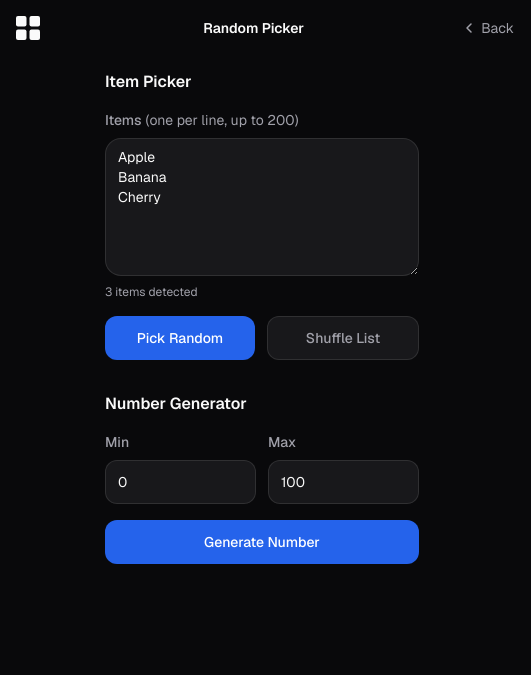
it: RandomPickerTool › result card shows picked item › displays the picked item in a result card after clicking "Pick Random"
The width and height of the screenshot is (531, 675).
Click the button with aria-label "pick a random item": (180, 338) [105,316,255,360]
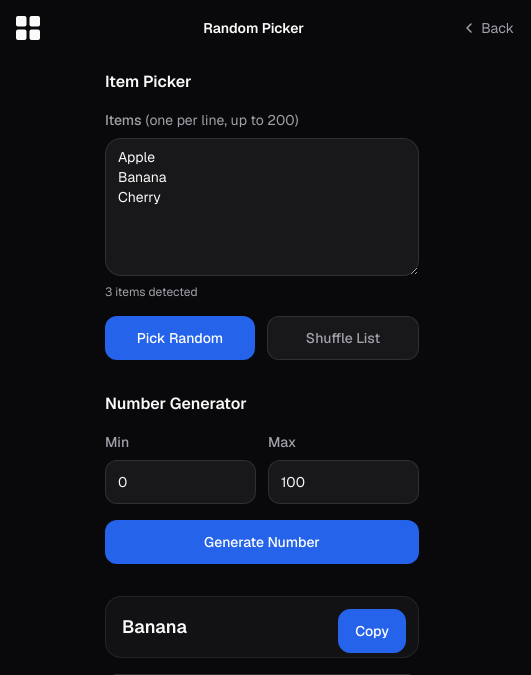
Expected: the text "Banana" is shown, [122,615,187,638]
